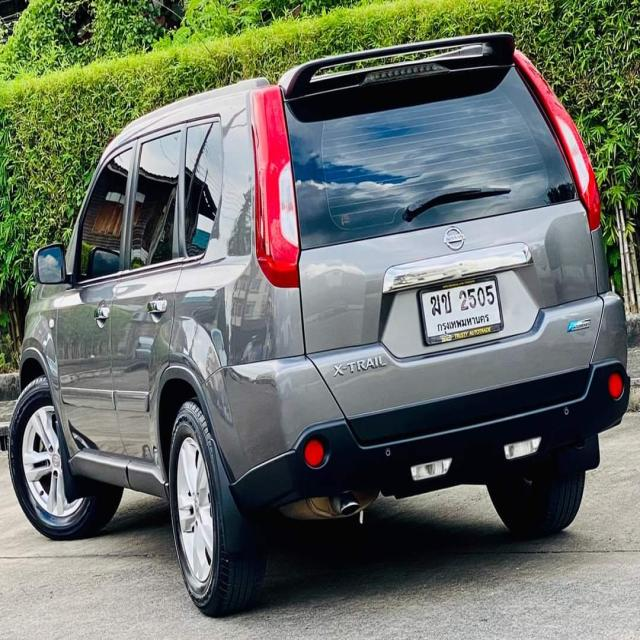license_plate: (415, 273, 506, 350)
